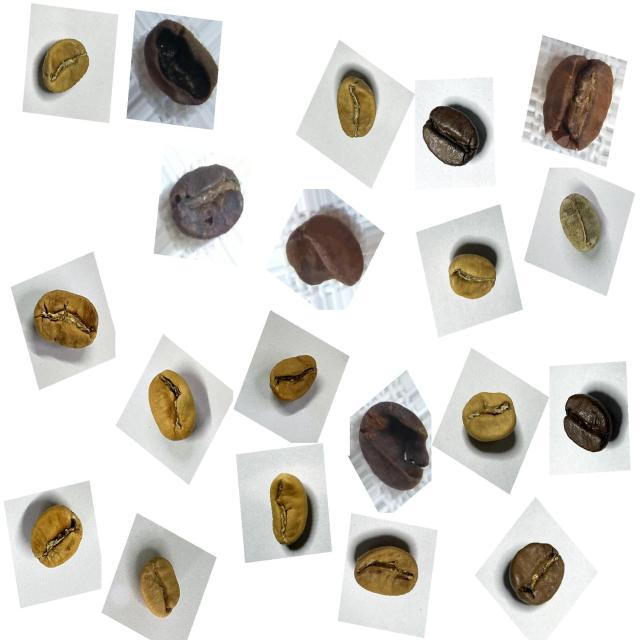bad: (530, 41, 626, 161), (348, 386, 439, 502), (280, 193, 376, 300), (136, 12, 228, 122), (162, 157, 249, 252)
dark: (412, 90, 488, 184), (551, 375, 627, 468)
green: (549, 182, 612, 266)
light: (134, 358, 216, 456), (22, 273, 107, 366), (18, 491, 95, 585), (342, 526, 424, 614), (451, 375, 529, 466), (253, 459, 321, 560), (124, 537, 192, 630), (437, 230, 509, 316), (323, 61, 391, 151), (33, 22, 101, 103), (260, 339, 328, 419)
medium: (496, 530, 577, 618)
